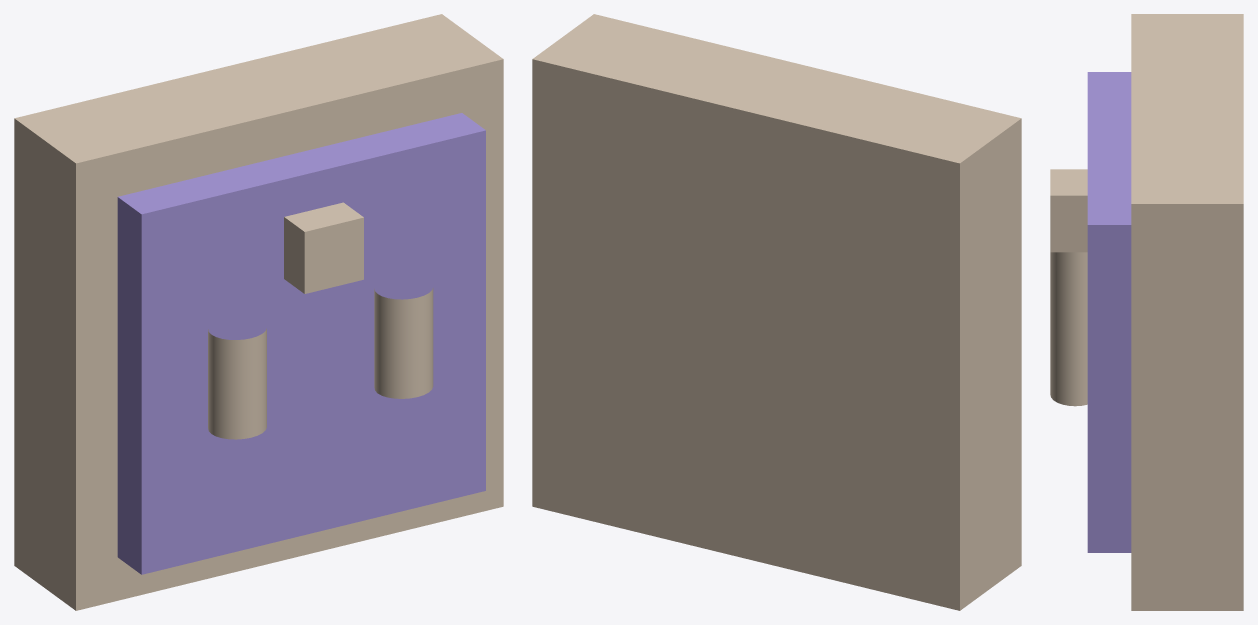
File: socket.gltf
3 renders of one model, left to right at view 1: azimuth 30°, elevation 25°; view 2: azimuth 150°, elevation 25°; view 3: azimuth 270°, elevation 25°, orthographic. The views are drawn at different scales.
Visible parts, largest first — view 1: plate, frame, earth, contact_r, contact_l; view 2: frame; view 3: frame, plate, contact_r, earth, contact_l.
Part boxes in pixels (x1=…): plate: x1=117, y1=113, x2=485, y2=574; frame: x1=14, y1=14, x2=503, y2=610; earth: x1=284, y1=202, x2=363, y2=293; contact_r: x1=374, y1=288, x2=433, y2=398; contact_l: x1=208, y1=328, x2=266, y2=439; frame: x1=532, y1=14, x2=1021, y2=610; frame: x1=1131, y1=14, x2=1243, y2=610; plate: x1=1087, y1=72, x2=1131, y2=552; contact_r: x1=1050, y1=305, x2=1087, y2=406; earth: x1=1050, y1=169, x2=1087, y2=252; contact_l: x1=1050, y1=252, x2=1087, y2=315.
Bounding box in the file's own units: 0.18 × 0.18 × 0.0775.
